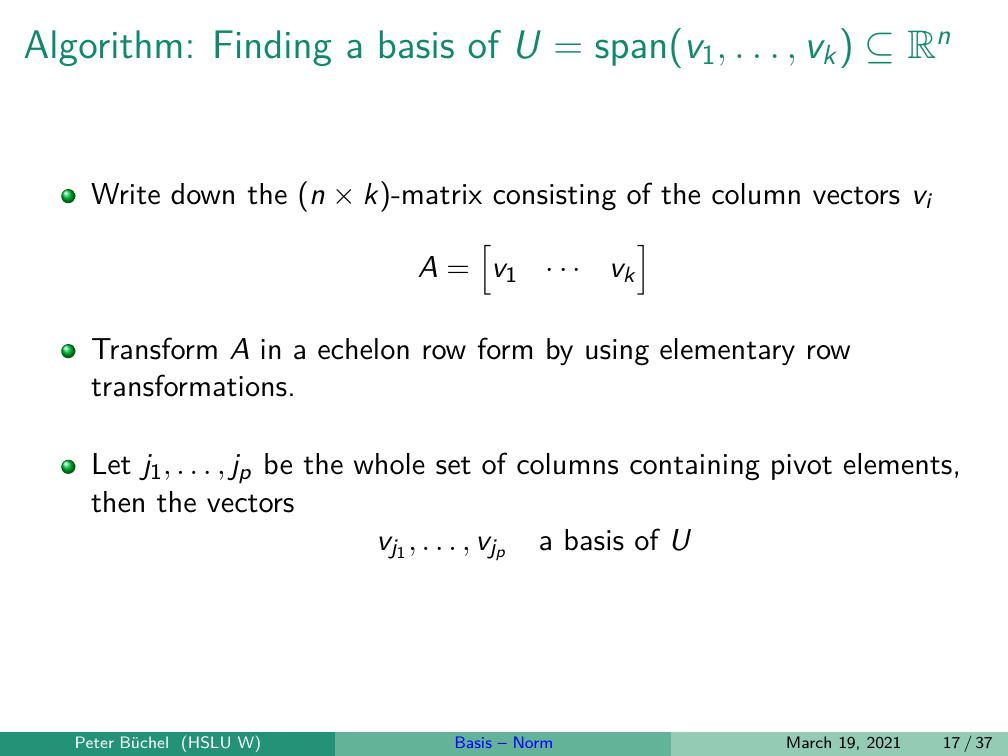Title: (21, 18, 958, 70)
